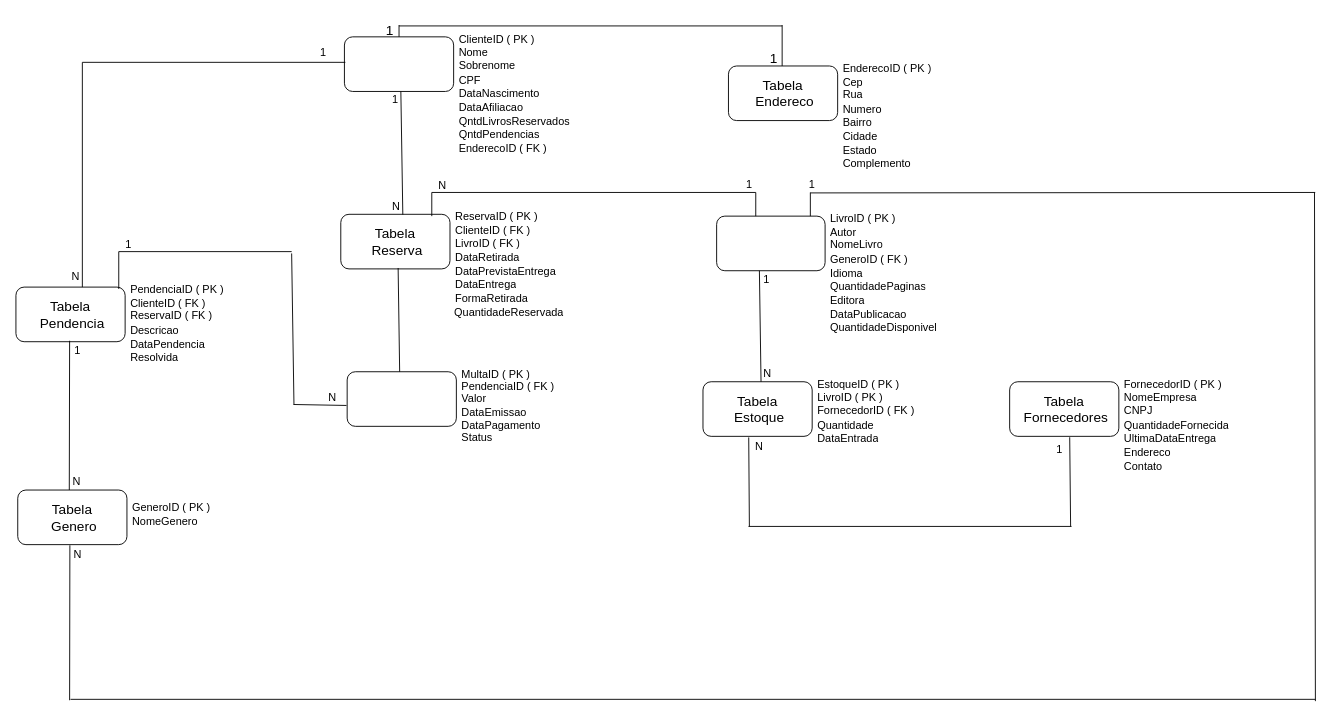
Some shapes in this 1332 by 718 pixel diagram are drawn without their labels. The box of each missing label's shape, as (x1, y1, x2, y2) in pixels:
Tabela Cliente: (344, 36, 454, 91)
Tabela Livro: (716, 215, 825, 271)
Tabela Multa: (346, 371, 456, 426)
